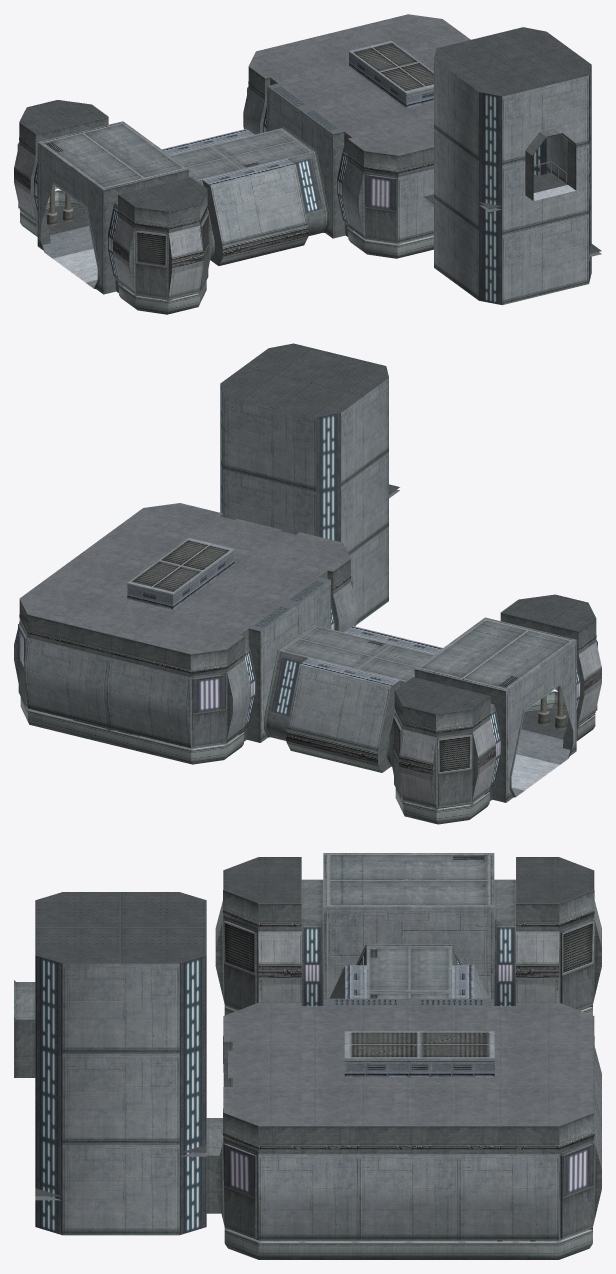
The model's file is thm_newbie_hall_r4_mesh_r4.fbx.
3 renders of one model, top to bottom at view 1: azimuth 30°, elevation 25°; view 2: azimuth 150°, elevation 25°; view 3: azimuth 270°, elevation 25°, orthographic. The views are drawn at different scales.
Parts seen in each view (by area): view 1: mesh_node; view 2: mesh_node; view 3: mesh_node.
Boxes of the visible parts, left/top/right/bottom form: mesh_node: left=14, top=14, right=601, bottom=314; mesh_node: left=14, top=343, right=601, bottom=824; mesh_node: left=14, top=853, right=601, bottom=1259.
Size of the model in its own units: 30.62 by 14.01 by 27.46.
